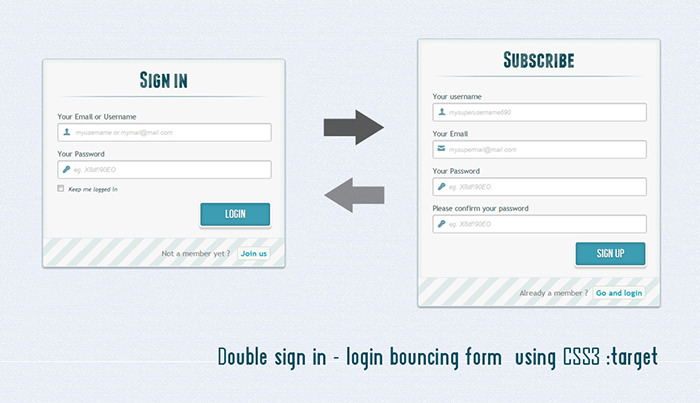_form_: (413, 32, 675, 328), (30, 48, 297, 289)
button: (198, 201, 273, 227), (575, 242, 647, 268)
checkbox: (57, 183, 65, 192)
checkbox_with_label: (55, 182, 118, 194)
field: (434, 101, 648, 124), (55, 121, 273, 143), (431, 213, 648, 234), (431, 139, 646, 160), (433, 176, 647, 197), (57, 159, 274, 179)
field_with_label: (431, 93, 649, 127), (52, 113, 276, 145), (430, 204, 651, 236), (429, 129, 648, 161), (432, 167, 649, 198), (55, 150, 275, 180)
